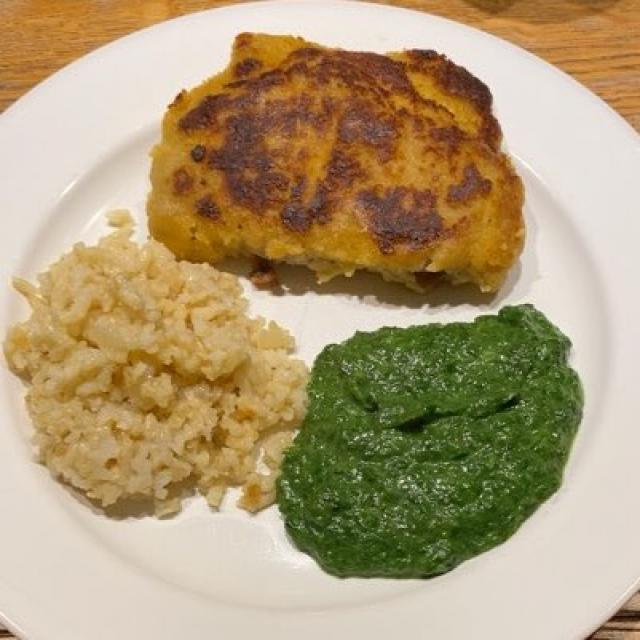cordon-bleu-from-pork-schnitzel-fried: (154, 36, 521, 292)
cream-spinach: (286, 314, 577, 577)
rice-whole-grain: (22, 221, 306, 516)
